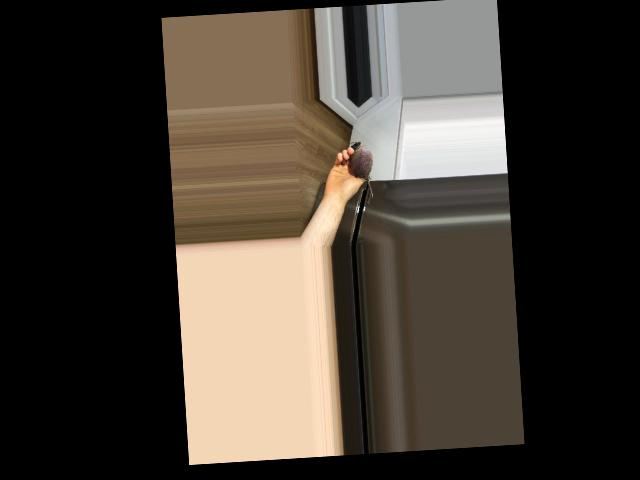beet: (348, 140, 374, 198)
